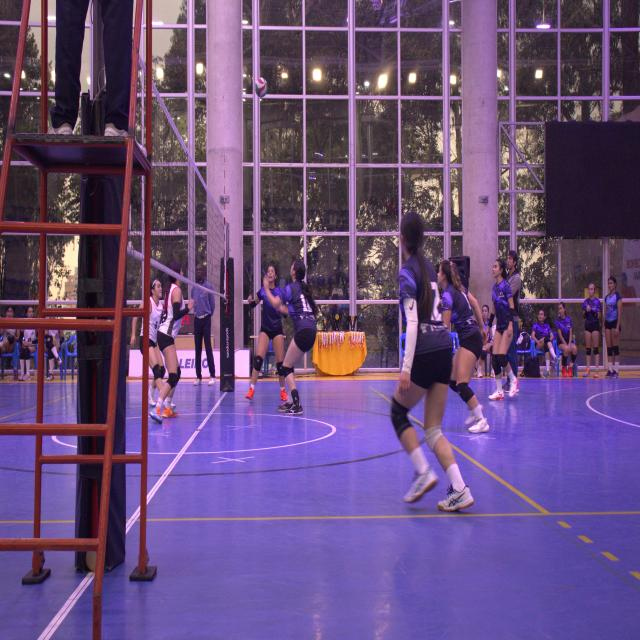volleyball: (254, 76, 268, 98)
